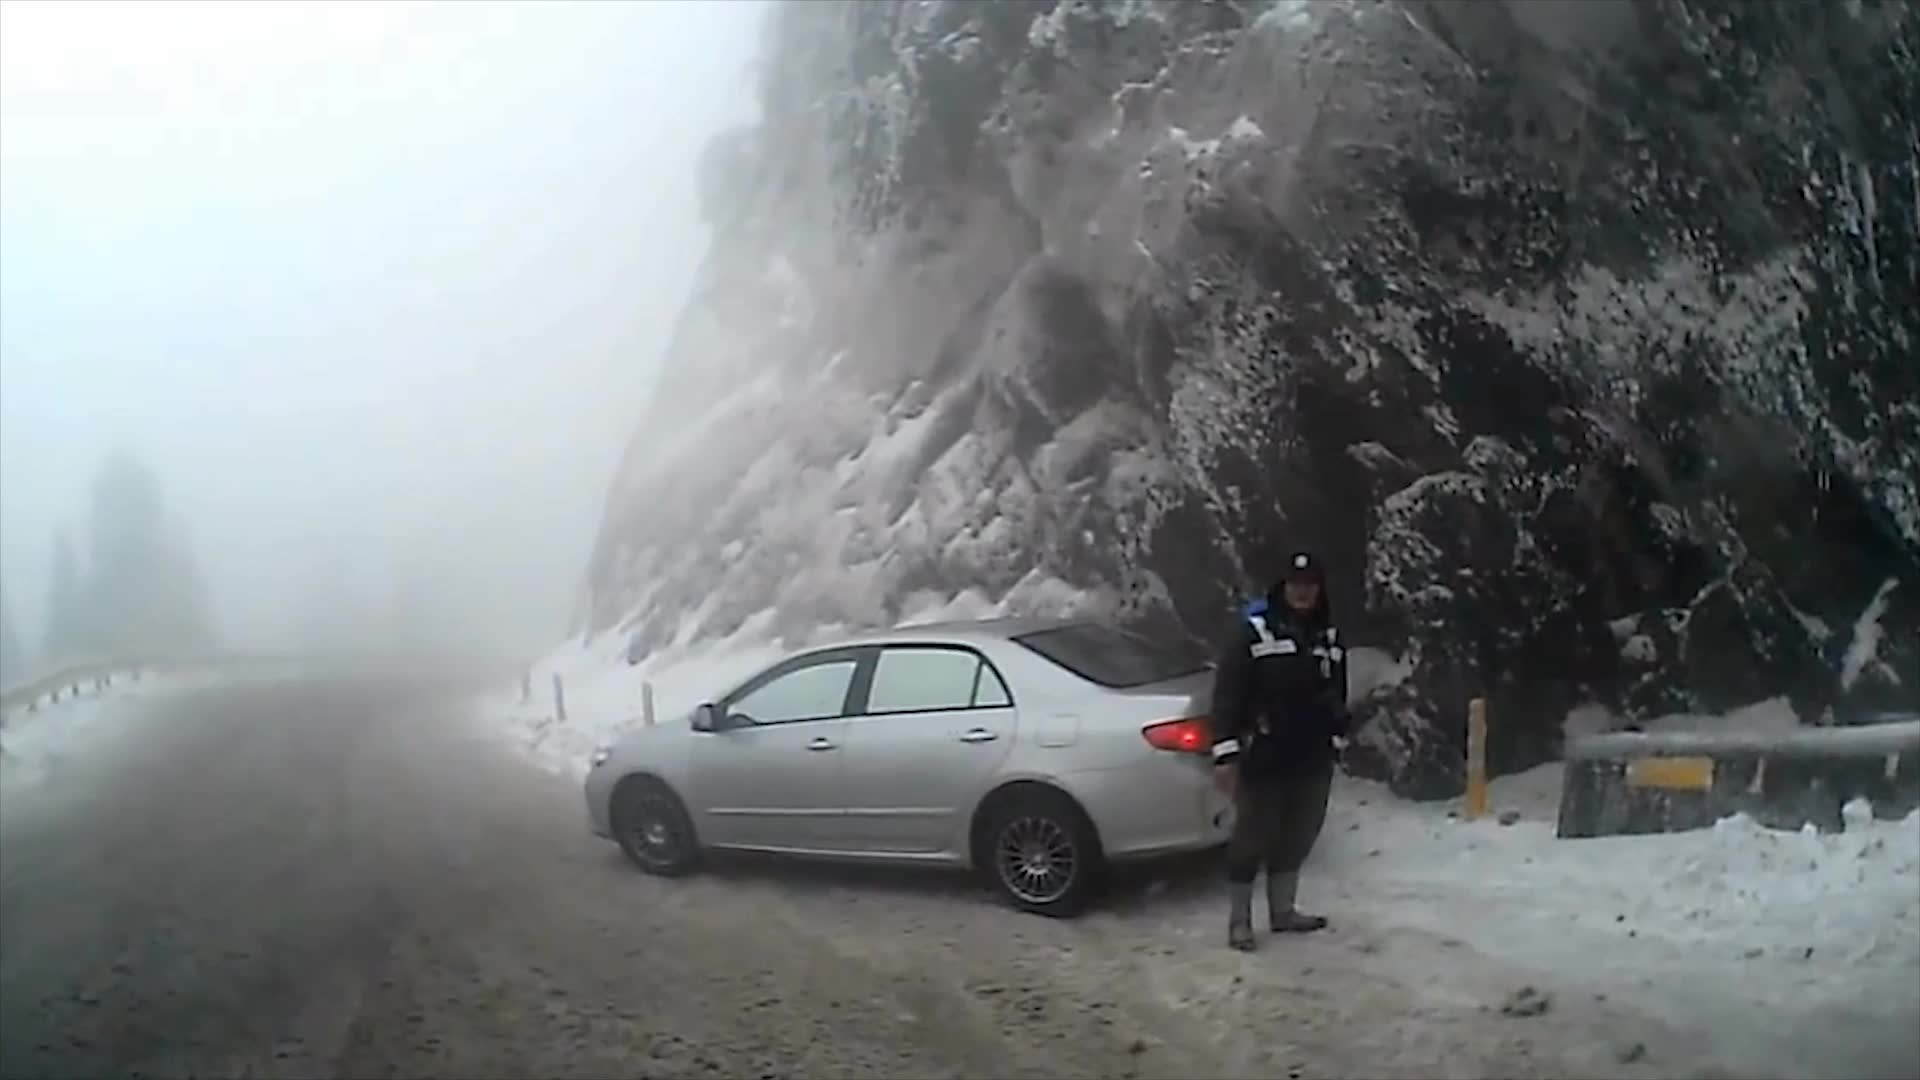pedestrian: (1206, 548, 1354, 956)
vehicle: (581, 617, 1303, 919)
